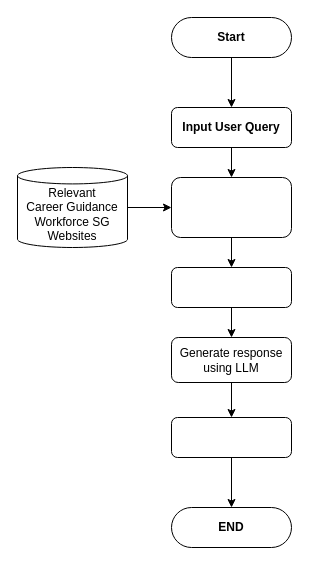
The diagram is 309 pixels wide and 565 high, and some of its shapes have lost their labels. The box of each missing label's shape, as (x1, y1, x2, y2) in pixels:
Display response: (170, 416, 292, 458)
Process query and scraped data: (170, 266, 292, 308)
Use LLM to look up for relevant information in relevant websites: (170, 176, 292, 238)
